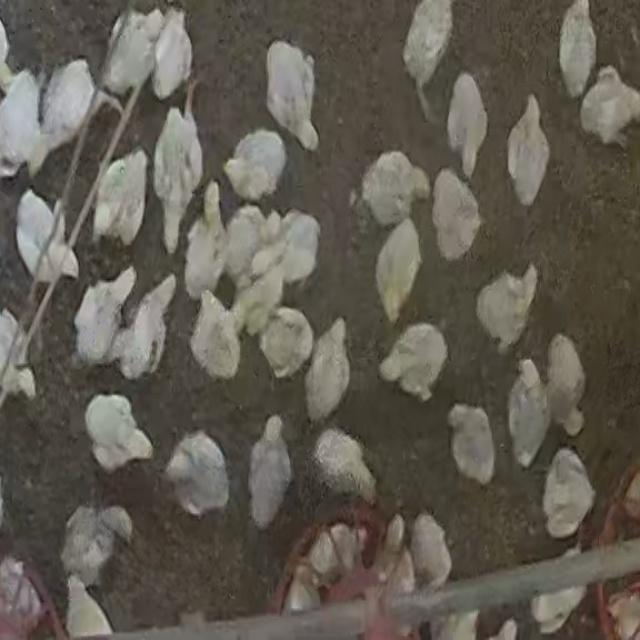chicken: (153, 107, 205, 249), (114, 272, 178, 383), (73, 266, 138, 370), (38, 58, 99, 166), (16, 188, 80, 289), (163, 426, 231, 520), (265, 38, 320, 152), (100, 5, 162, 103), (61, 502, 132, 586), (83, 390, 152, 475), (92, 149, 150, 249), (474, 264, 538, 354), (379, 322, 447, 405), (183, 181, 230, 301), (358, 150, 430, 228), (374, 217, 424, 326), (248, 414, 294, 532), (403, 0, 455, 103), (189, 287, 244, 382), (529, 548, 589, 634), (506, 91, 550, 208), (304, 317, 352, 424), (578, 66, 640, 148), (0, 68, 45, 180), (311, 426, 375, 504), (506, 357, 550, 470), (542, 446, 596, 538), (544, 332, 588, 442), (226, 129, 286, 208), (446, 73, 489, 182), (431, 170, 481, 262), (234, 255, 290, 336), (444, 403, 497, 488), (219, 200, 268, 291), (258, 306, 314, 382), (150, 6, 194, 102), (246, 209, 294, 290), (276, 209, 324, 289), (408, 511, 454, 594), (558, 0, 596, 99), (1, 306, 40, 401), (0, 554, 46, 631), (63, 575, 117, 636), (307, 522, 357, 584), (382, 545, 416, 604), (606, 586, 640, 638), (284, 569, 318, 617), (16, 224, 42, 280), (438, 608, 483, 640), (101, 505, 134, 544), (382, 514, 406, 562), (0, 16, 16, 87), (622, 464, 640, 520), (139, 6, 165, 41), (491, 617, 518, 640), (179, 609, 208, 629)
